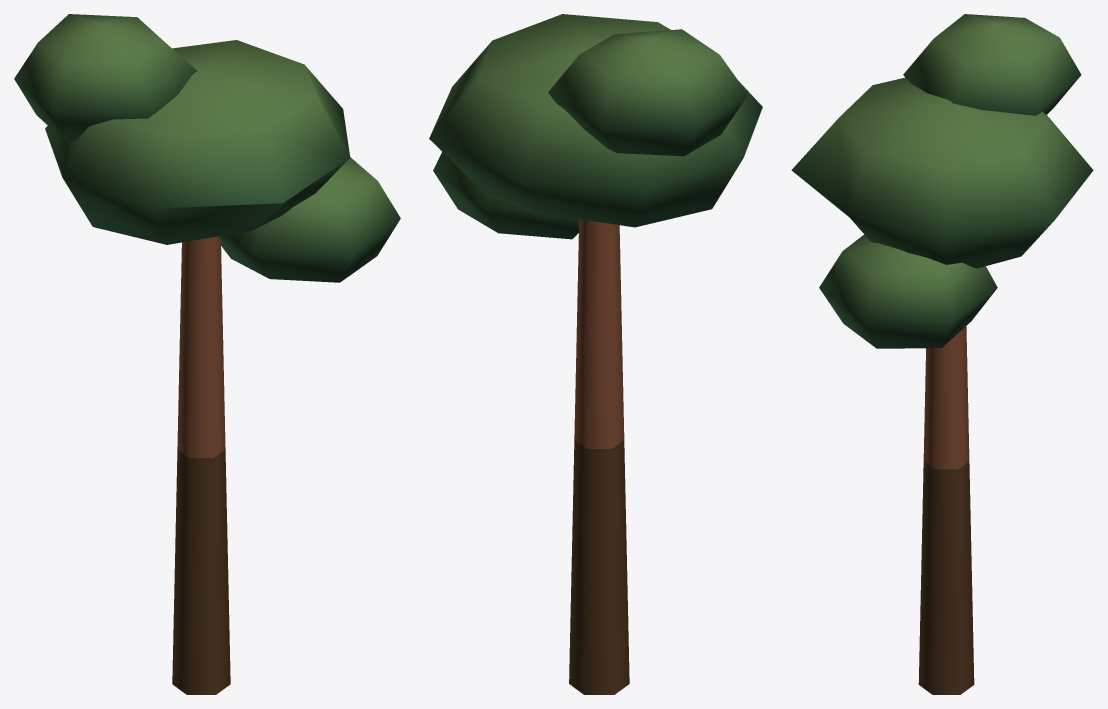
The model's file is tree_pine2.glb.
The picture shows the model from 3 angles, left to right: view 1: azimuth 30°, elevation 25°; view 2: azimuth 150°, elevation 25°; view 3: azimuth 270°, elevation 25°; orthographic projection. The views are drawn at different scales.
Parts seen in each view (by area): view 1: tree_pine2; view 2: tree_pine2; view 3: tree_pine2.
Part boxes in pixels (x1,y1,x2,y2): tree_pine2: (14, 14, 400, 694); tree_pine2: (429, 14, 762, 694); tree_pine2: (791, 14, 1093, 694).
Bounding box in the file's own units: 0.5409 × 1.12 × 0.4898.
